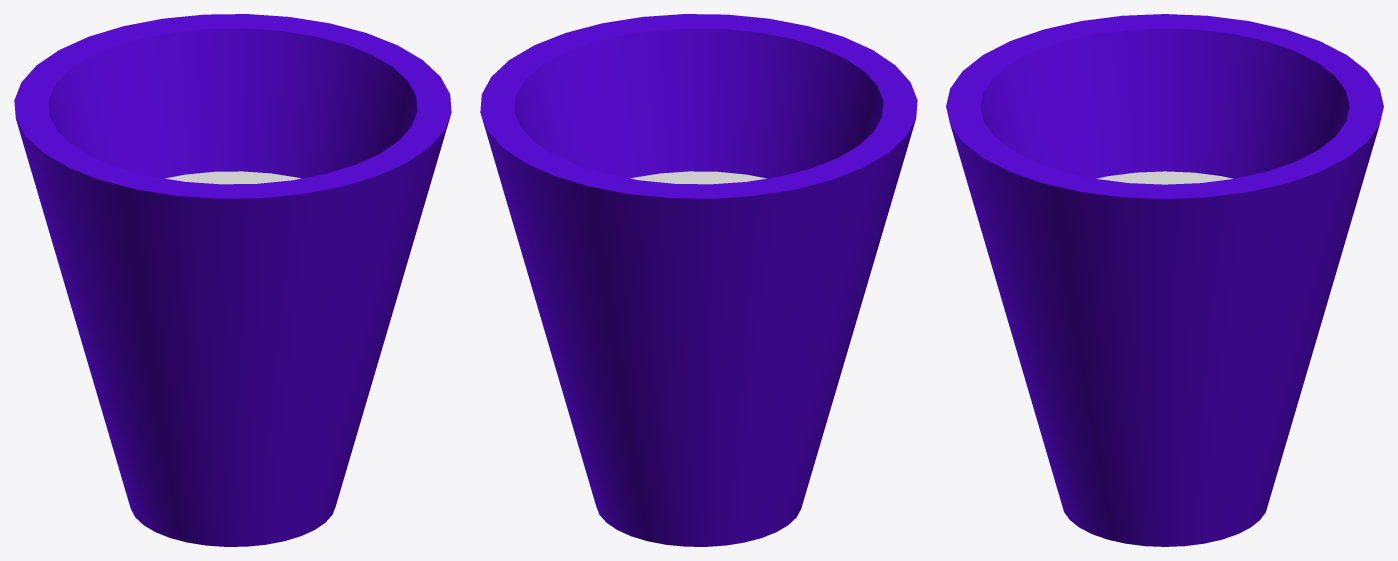
Rendered from Milk.fbx.
The picture shows the model from 3 angles, left to right: view 1: azimuth 30°, elevation 25°; view 2: azimuth 150°, elevation 25°; view 3: azimuth 270°, elevation 25°; orthographic projection.
Visible parts, largest first — view 1: Milk; view 2: Milk; view 3: Milk.
Part boxes in pixels (x1=…): Milk: x1=14, y1=14, x2=451, y2=546; Milk: x1=480, y1=14, x2=917, y2=546; Milk: x1=946, y1=14, x2=1383, y2=546.
Bounding box in the file's own units: 16.09 × 16.09 × 16.09.
